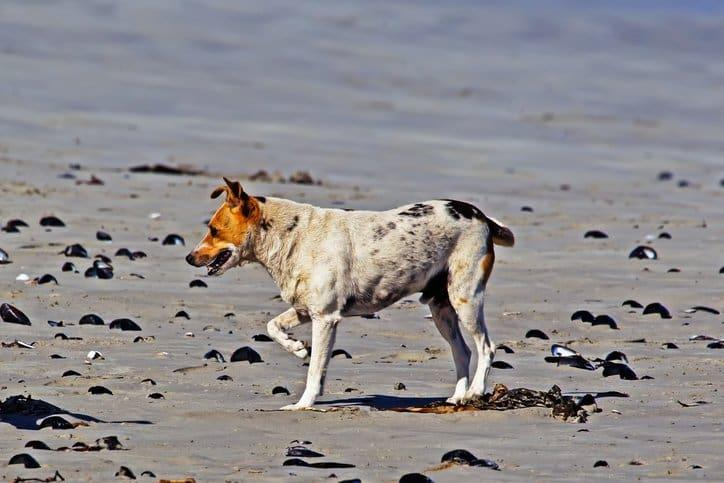fracture: (267, 298, 325, 392)
